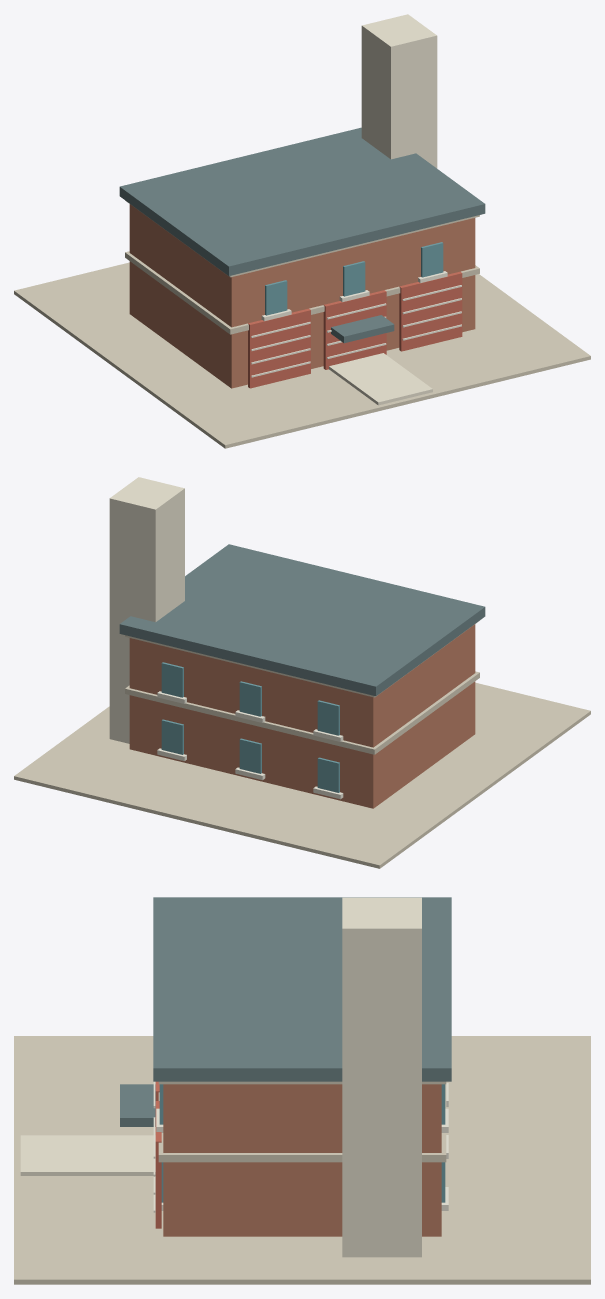
Rendered from civic_fire.glb.
3 renders of one model, top to bottom at view 1: azimuth 30°, elevation 25°; view 2: azimuth 150°, elevation 25°; view 3: azimuth 270°, elevation 25°, orthographic. The views are drawn at different scales.
Visible parts, largest first — view 1: Paved civic lot.006, Copper roof.006, Masonry shell.006, Hose tower, Engine door.002, Engine door, Front path.006, Engine door.001, Limestone course.011, Entrance canopy.006, Recessed glazing.074, Recessed glazing.076 (+2 smaller); view 2: Paved civic lot.006, Masonry shell.006, Copper roof.006, Hose tower, Limestone course.011, Recessed glazing.069, Recessed glazing.071, Recessed glazing.067, Recessed glazing.075, Recessed glazing.077, Recessed glazing.073, Limestone course.012; view 3: Paved civic lot.006, Copper roof.006, Hose tower, Masonry shell.006, Front path.006, Limestone course.011, Entrance canopy.006, Limestone course.012, Engine door.002.
Part boxes in pixels (x1,y1,x2,y2): Paved civic lot.006: (14,262,590,448); Copper roof.006: (119,127,485,275); Masonry shell.006: (129,204,475,388); Hose tower: (361,14,437,168); Engine door.002: (399,271,462,351); Engine door: (248,308,310,388); Front path.006: (329,353,432,405); Engine door.001: (323,290,386,369); Limestone course.011: (125,251,479,334); Entrance canopy.006: (331,315,394,343); Recessed glazing.074: (343,261,365,296); Recessed glazing.076: (421,242,443,277); Paved civic lot.006: (14,682,590,868); Masonry shell.006: (129,624,475,808); Copper roof.006: (119,544,485,696); Hose tower: (109,477,184,743); Limestone course.011: (125,671,479,754); Recessed glazing.069: (239,738,261,773); Recessed glazing.071: (161,719,183,754); Recessed glazing.067: (317,757,339,792); Recessed glazing.075: (239,681,261,716); Recessed glazing.077: (161,662,183,697); Recessed glazing.073: (317,700,339,735); Limestone course.012: (125,620,479,697); Paved civic lot.006: (14,1036,590,1284); Copper roof.006: (153,897,451,1081); Hose tower: (342,897,421,1257); Masonry shell.006: (163,1084,441,1236); Front path.006: (20,1135,155,1175); Limestone course.011: (158,1084,446,1162); Entrance canopy.006: (120,1084,155,1126); Limestone course.012: (158,1081,446,1084); Engine door.002: (155,1101,161,1228).
Size of the model in its own units: 8.7 by 5.55 by 8.7.
